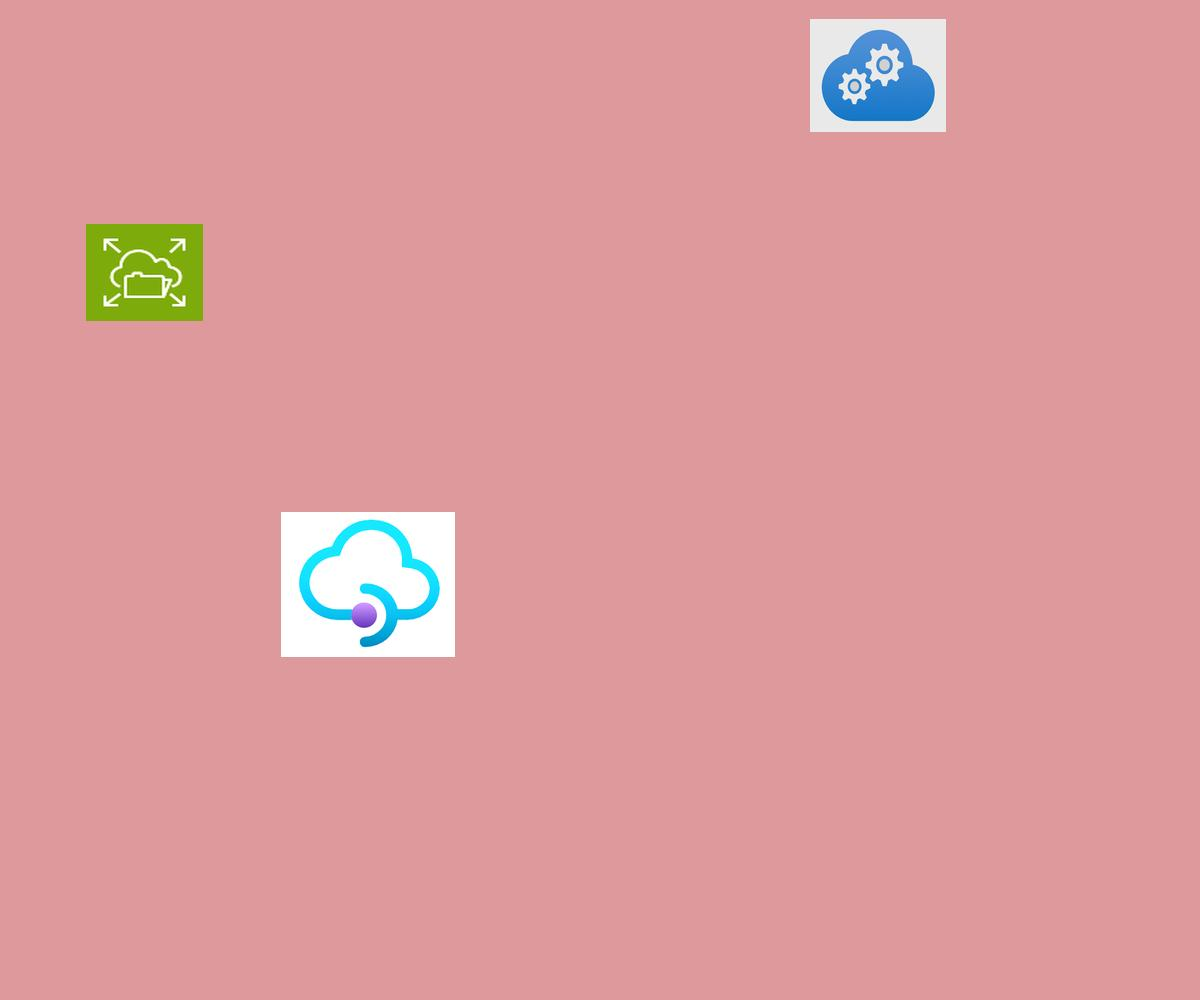AWS-EFS: (86, 224, 203, 321)
Azure_api_gateway: (281, 512, 455, 657)
Azure_cloud_services: (810, 19, 946, 132)
